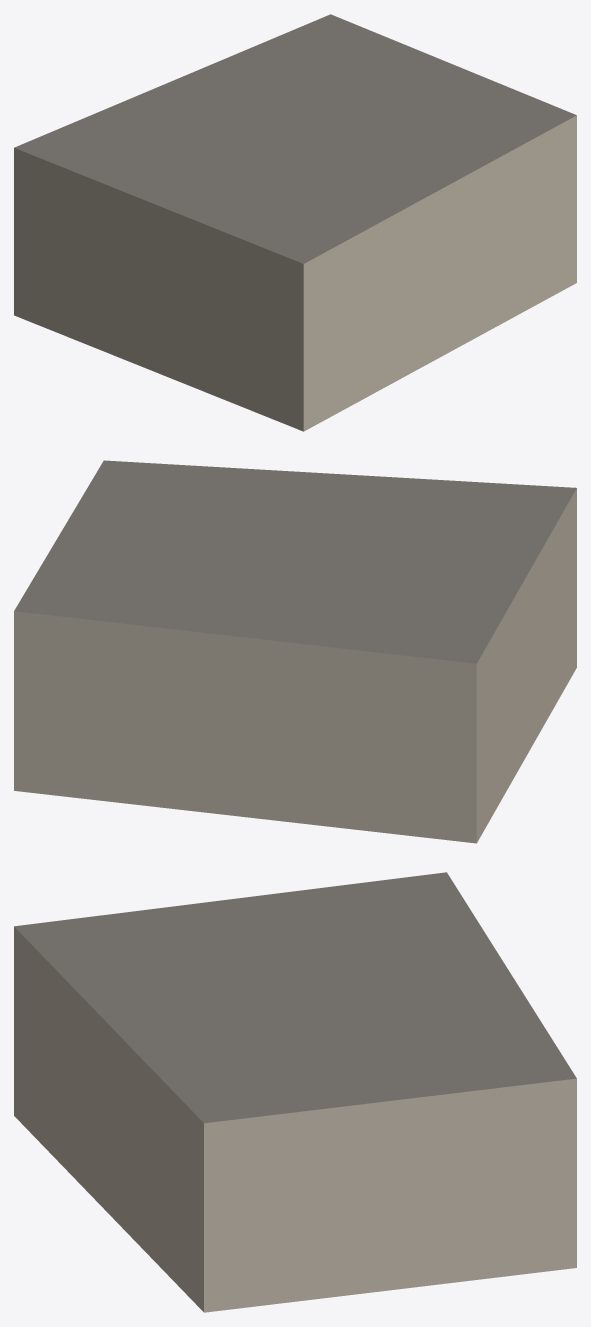
The picture shows the model from 3 angles, top to bottom: view 1: azimuth 30°, elevation 25°; view 2: azimuth 150°, elevation 25°; view 3: azimuth 270°, elevation 25°; orthographic projection. The views are drawn at different scales.
Parts seen in each view (by area): view 1: HP-w380339931; view 2: HP-w380339931; view 3: HP-w380339931.
Part boxes in pixels (x1,y1,x2,y2): HP-w380339931: (14, 14, 576, 431); HP-w380339931: (14, 460, 576, 843); HP-w380339931: (14, 872, 576, 1312).
Size of the model in its own units: 51.18 by 18 by 48.5.
